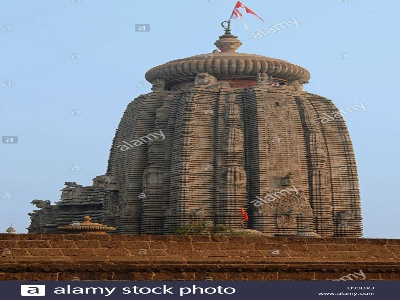amalaka: (121, 45, 324, 83)
gopuram: (100, 82, 374, 232)
